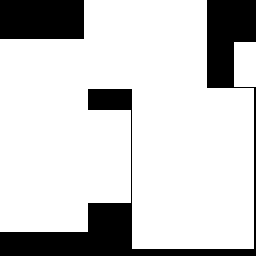rumex: (132, 88, 253, 248), (0, 39, 87, 231), (84, 0, 206, 88), (86, 110, 130, 202), (234, 42, 255, 86)
